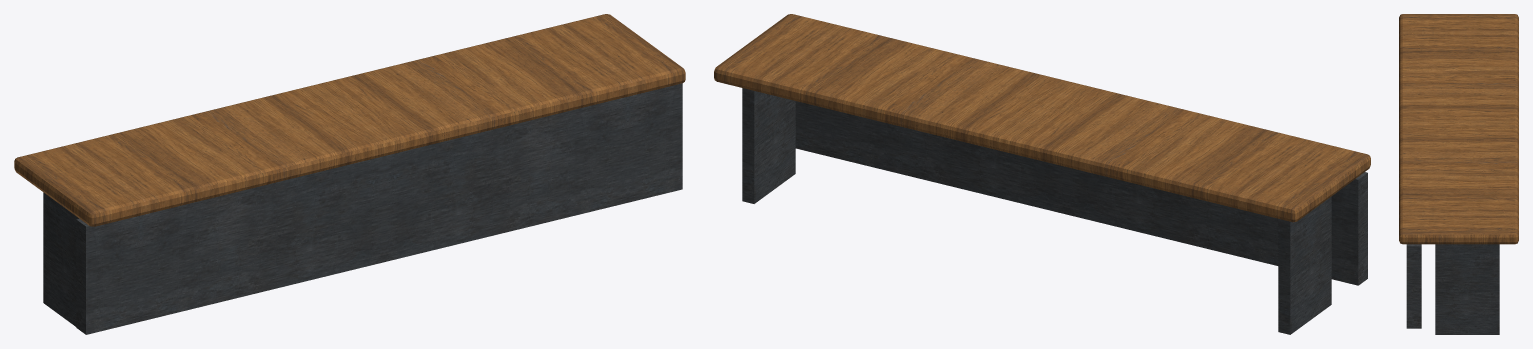
Rendered from commons-dj-desk.glb.
3 renders of one model, left to right at view 1: azimuth 30°, elevation 25°; view 2: azimuth 150°, elevation 25°; view 3: azimuth 270°, elevation 25°, orthographic. The views are drawn at different scales.
Parts seen in each view (by area): view 1: AV_DJFascia.001, AV_DJDesk.001, AV_DJLeg.002; view 2: AV_DJDesk.001, AV_DJFascia.001, AV_DJLeg.002, AV_DJLeg.003; view 3: AV_DJDesk.001, AV_DJLeg.003, AV_DJFascia.001.
Boxes of the visible parts, x1,y1,x2,y2 form: AV_DJFascia.001: (76, 83, 682, 334); AV_DJDesk.001: (14, 14, 685, 226); AV_DJLeg.002: (43, 192, 78, 326); AV_DJDesk.001: (714, 14, 1370, 222); AV_DJFascia.001: (795, 101, 1367, 285); AV_DJLeg.002: (1278, 196, 1331, 334); AV_DJLeg.003: (742, 88, 795, 203); AV_DJDesk.001: (1399, 14, 1518, 244); AV_DJLeg.003: (1435, 244, 1499, 334); AV_DJFascia.001: (1406, 244, 1421, 328).
Bounding box in the file's own units: 4.9 × 1.11 × 1.12.
2 materials, 2 textured.
